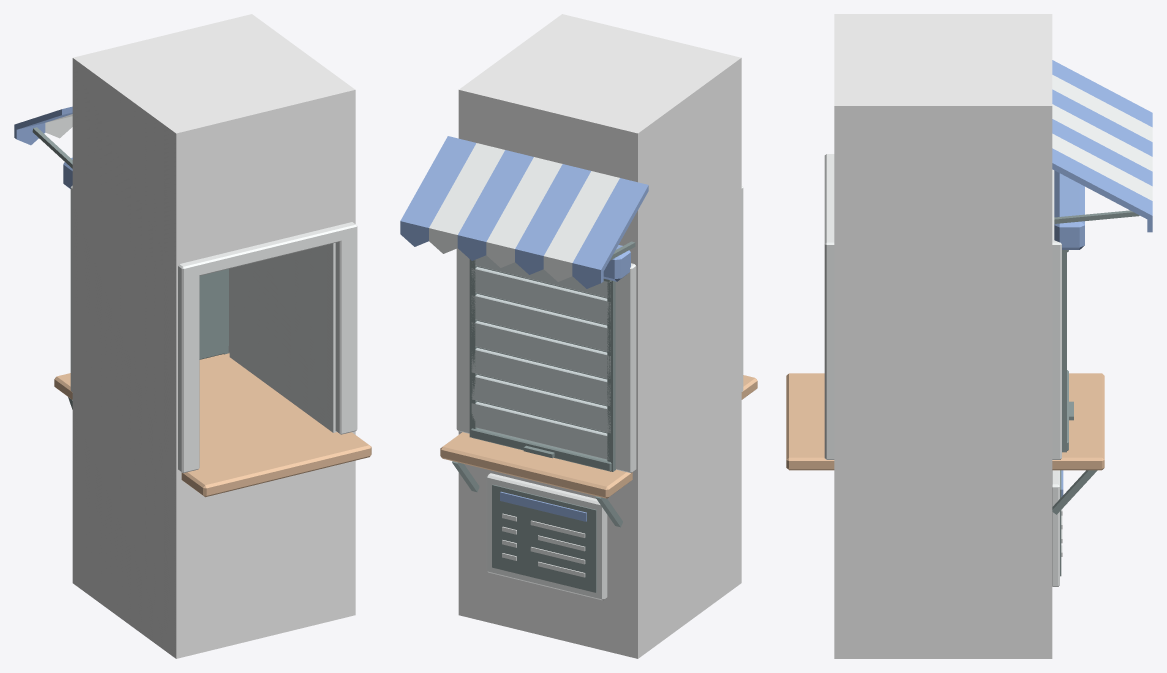
File: walkup_hatch_seaside.glb
The picture shows the model from 3 angles, left to right: view 1: azimuth 30°, elevation 25°; view 2: azimuth 150°, elevation 25°; view 3: azimuth 270°, elevation 25°; orthographic projection. The views are drawn at different scales.
Visible parts, largest first — view 1: WallBody, Frame, LedgeSill, LedgeInner, ShutterClosed, Awning, LedgeOuter; view 2: WallBody, ShutterClosed, Awning, MenuBoard, Frame, LedgeOuter, ShutterHousing; view 3: WallBody, Awning, Frame, LedgeOuter, LedgeInner, ShutterHousing, MenuBoard.
Part boxes in pixels (<box>): WallBody: <box>72,14,355,658</box>; Frame: <box>70,185,357,473</box>; LedgeSill: <box>199,358,331,464</box>; LedgeInner: <box>181,432,371,497</box>; ShutterClosed: <box>199,269,228,359</box>; Awning: <box>14,106,72,168</box>; LedgeOuter: <box>54,353,230,409</box>; WallBody: <box>458,14,741,658</box>; ShutterClosed: <box>470,255,611,471</box>; Awning: <box>400,136,648,288</box>; MenuBoard: <box>486,473,607,600</box>; Frame: <box>456,186,743,472</box>; LedgeOuter: <box>440,432,632,527</box>; ShutterHousing: <box>603,245,630,281</box>; WallBody: <box>834,14,1052,658</box>; Awning: <box>1052,60,1152,232</box>; Frame: <box>824,154,1066,459</box>; LedgeOuter: <box>1052,373,1104,514</box>; LedgeInner: <box>786,373,834,470</box>; ShutterHousing: <box>1054,170,1084,249</box>; MenuBoard: <box>1052,470,1063,586</box>.
Size of the model in its own units: 0.5091 by 1.27 by 0.7636.
